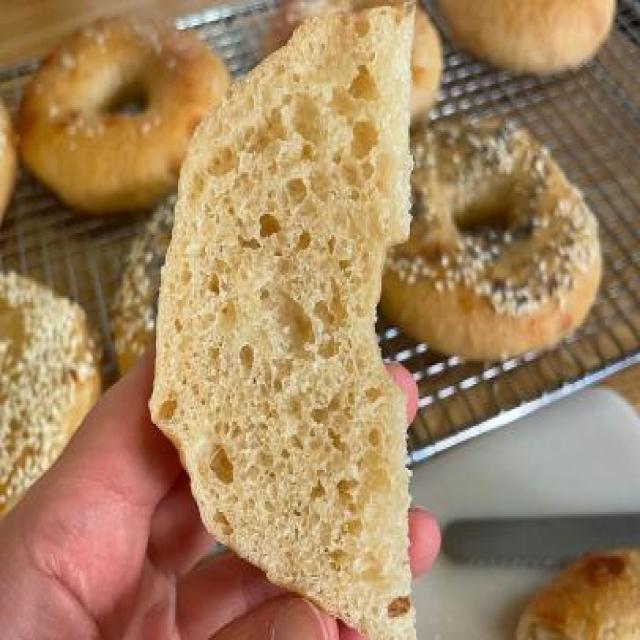Bagel: (150, 7, 414, 636), (381, 118, 601, 360), (21, 18, 227, 212), (0, 271, 100, 515), (439, 1, 615, 74), (111, 195, 176, 374), (516, 549, 640, 639), (263, 0, 405, 54), (410, 7, 443, 122), (410, 8, 443, 122), (1, 100, 16, 222)
